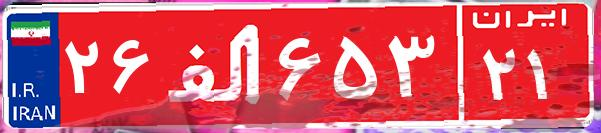1: (525, 38, 570, 115)
2: (57, 26, 110, 107), (475, 38, 525, 113)
3: (385, 28, 445, 110)
5: (330, 28, 385, 110)
6: (273, 28, 330, 110), (110, 28, 158, 105)
الف: (158, 15, 273, 115)
